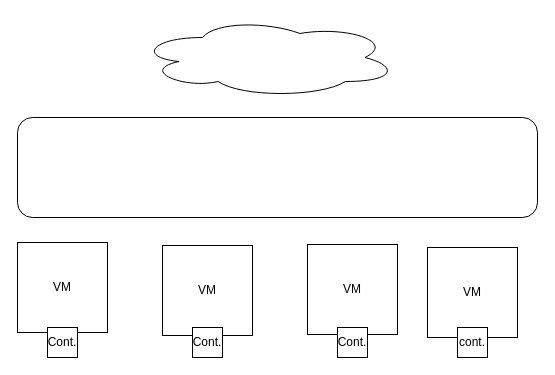
The diagram is 555 pixels wide and 375 high, and some of its shapes have lost their labels. Here are the shapes that lost their labels. From the top down, the centre of each, then its label:
At point (267, 57): "Cloud".
At point (277, 167): "K8S API Server".
